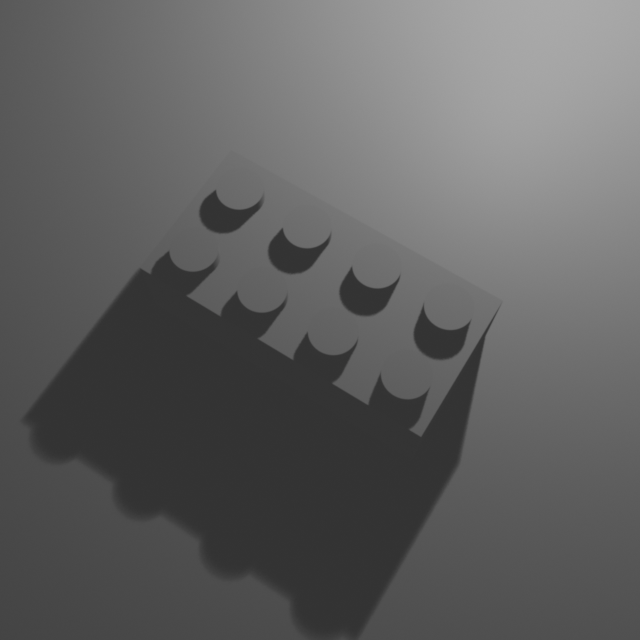lego_2x4: (137, 141, 506, 460)
